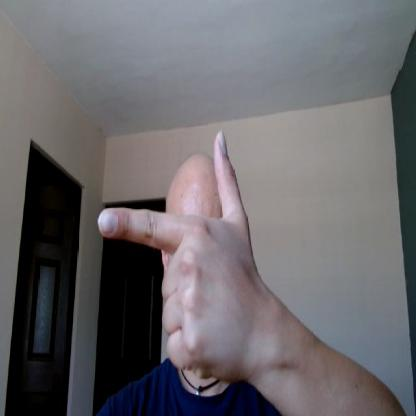G: (97, 131, 260, 380)
